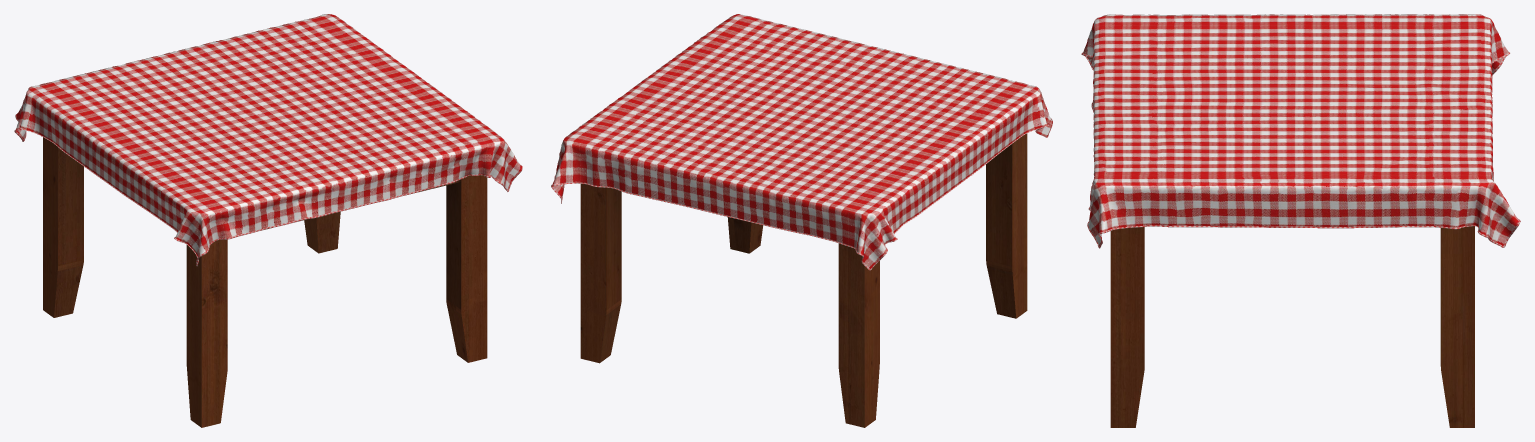
3 views of the same model, side by side, from view 1: azimuth 30°, elevation 25°; view 2: azimuth 150°, elevation 25°; view 3: azimuth 270°, elevation 25° (orthographic). The views are drawn at different scales.
Visible parts, largest first — view 1: Tovaglia1, Tavolo1, Loft001; view 2: Tovaglia1, Tavolo1, Loft001; view 3: Tovaglia1, Tavolo1, Loft001.
Part boxes in pixels (left/top/right/bottom): Tovaglia1: left=15, top=14, right=521, bottom=256; Tavolo1: left=43, top=137, right=487, bottom=427; Loft001: left=14, top=114, right=522, bottom=266; Tovaglia1: left=551, top=14, right=1052, bottom=269; Tavolo1: left=580, top=133, right=1027, bottom=427; Loft001: left=551, top=118, right=1052, bottom=270; Tovaglia1: left=1083, top=14, right=1518, bottom=246; Tavolo1: left=1110, top=226, right=1474, bottom=427; Loft001: left=1081, top=52, right=1520, bottom=248.
Bounding box in the file's own units: 1.92 × 1.18 × 1.88.
Materials: 4 (4 with a texture image).
